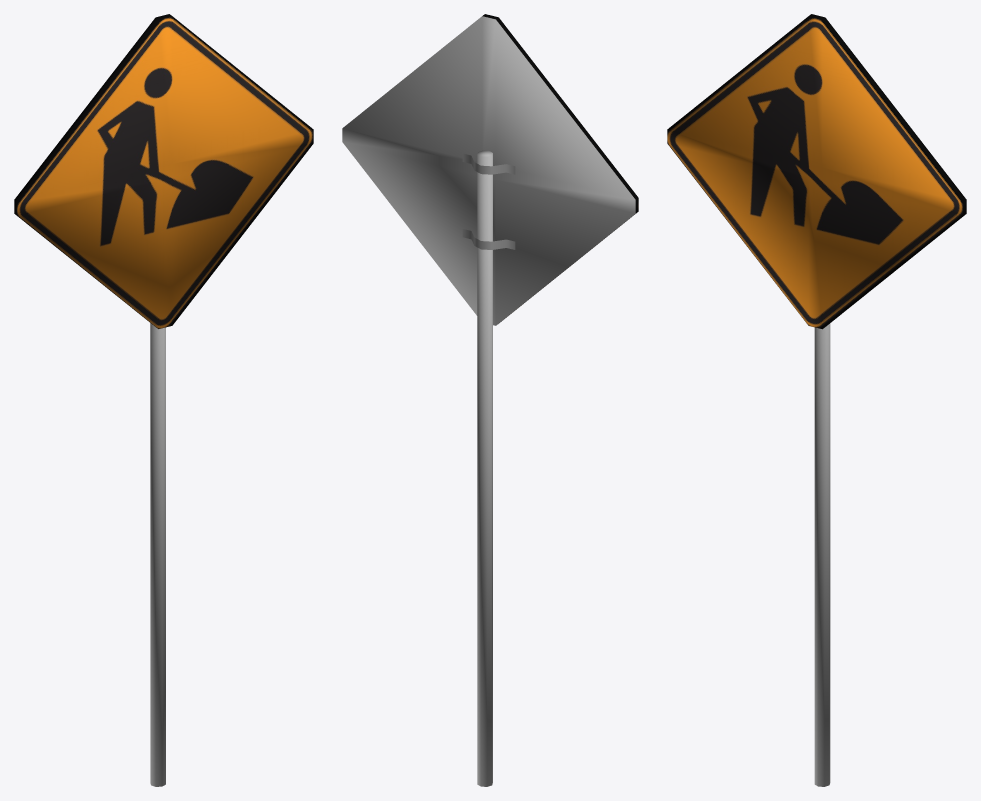
The model's file is construction_sign.fbx.
3 views of the same model, side by side, from view 1: azimuth 30°, elevation 25°; view 2: azimuth 150°, elevation 25°; view 3: azimuth 330°, elevation 25° (orthographic).
Visible parts, largest first — view 1: Circle; view 2: Circle; view 3: Circle.
Part boxes in pixels (bbox=[...]): Circle: bbox=[14, 14, 313, 786]; Circle: bbox=[342, 14, 638, 786]; Circle: bbox=[667, 14, 966, 786].
Bounding box in the file's own units: 487 × 1212 × 32.61.
